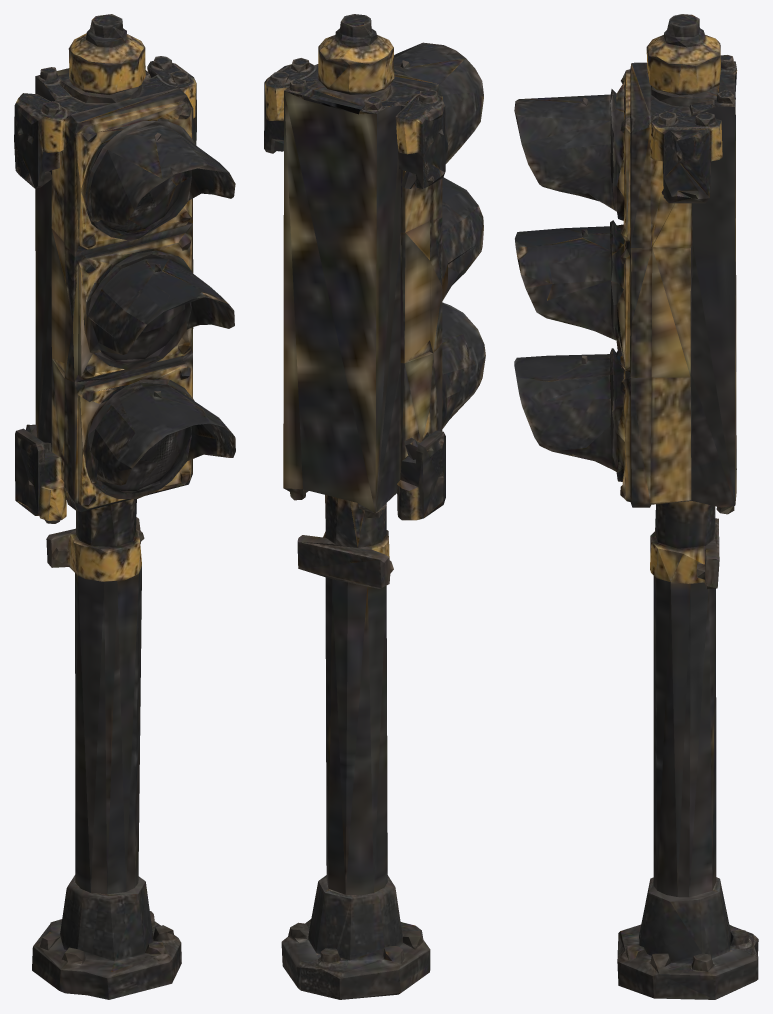
Rendered from traffic_light_2500.glb.
The picture shows the model from 3 angles, left to right: view 1: azimuth 30°, elevation 25°; view 2: azimuth 150°, elevation 25°; view 3: azimuth 270°, elevation 25°; orthographic projection.
Parts seen in each view (by area): view 1: output_unwrapped; view 2: output_unwrapped; view 3: output_unwrapped.
Boxes of the visible parts, x1=… form: output_unwrapped: x1=14, y1=14, x2=235, y2=999; output_unwrapped: x1=264, y1=14, x2=485, y2=999; output_unwrapped: x1=514, y1=14, x2=758, y2=999.
Bounding box in the file's own units: 1.01 × 5.5 × 1.28.
1 material, 1 textured.
